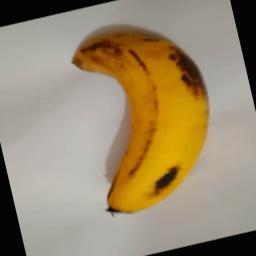Banana Unripe: (58, 12, 229, 218)
